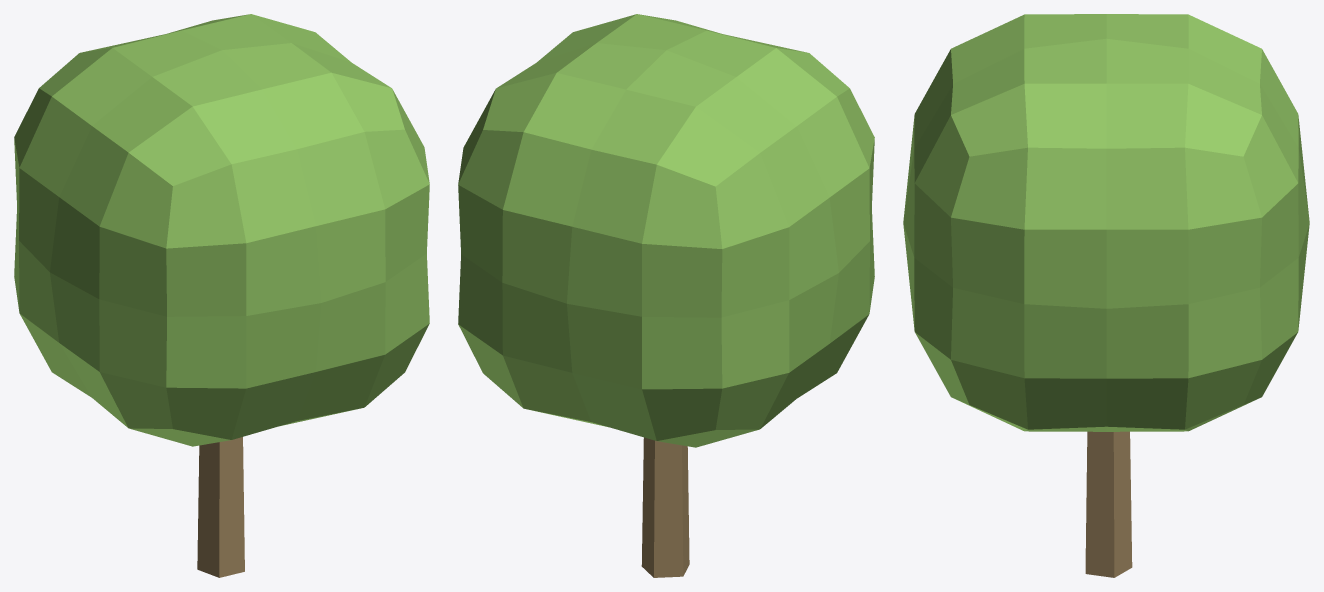
The model's file is Thuja_Tree_s_06_LOD.fbx.
3 renders of one model, left to right at view 1: azimuth 30°, elevation 25°; view 2: azimuth 150°, elevation 25°; view 3: azimuth 270°, elevation 25°, orthographic. The views are drawn at different scales.
Visible parts, largest first — view 1: Thuja_Tree_s_06_LOD0; view 2: Thuja_Tree_s_06_LOD0; view 3: Thuja_Tree_s_06_LOD0.
Boxes of the visible parts, bbox=[...] form: Thuja_Tree_s_06_LOD0: bbox=[14, 14, 429, 577]; Thuja_Tree_s_06_LOD0: bbox=[458, 14, 874, 577]; Thuja_Tree_s_06_LOD0: bbox=[903, 14, 1309, 577].
Size of what is drawn, in the model's own units: 176 by 252 by 176.
